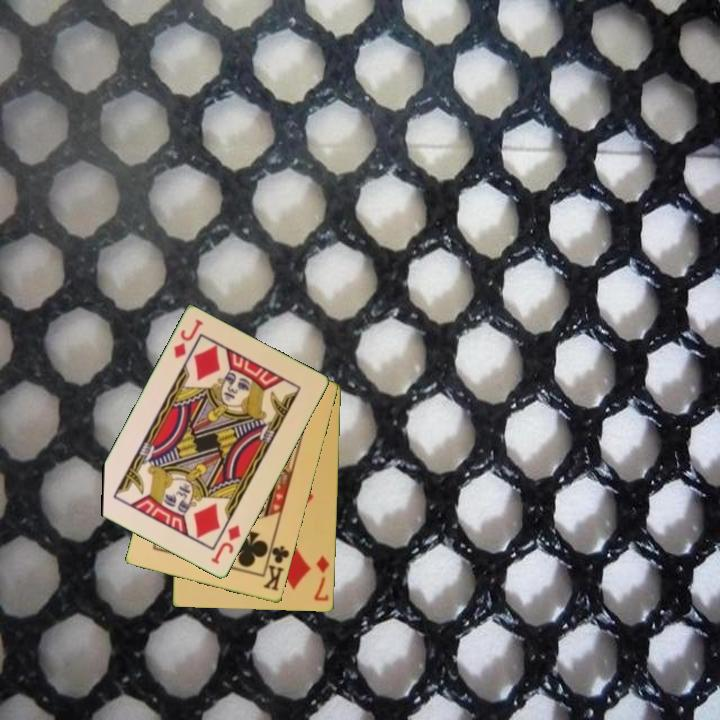7d: (311, 553, 333, 604)
Jd: (207, 522, 244, 568), (170, 316, 207, 362)
Kc: (260, 538, 293, 594)
